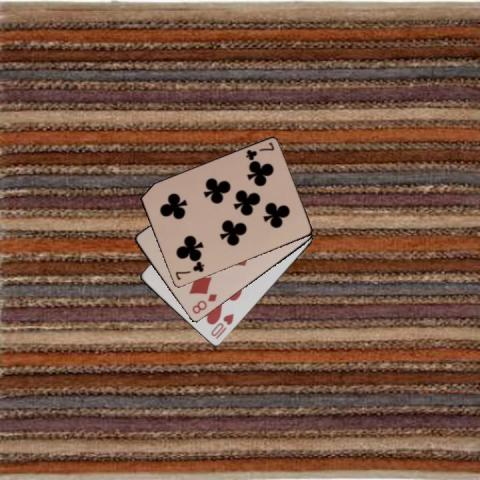10h: (208, 310, 235, 340)
7c: (172, 259, 205, 282), (243, 139, 275, 162)
8d: (189, 292, 219, 316)
